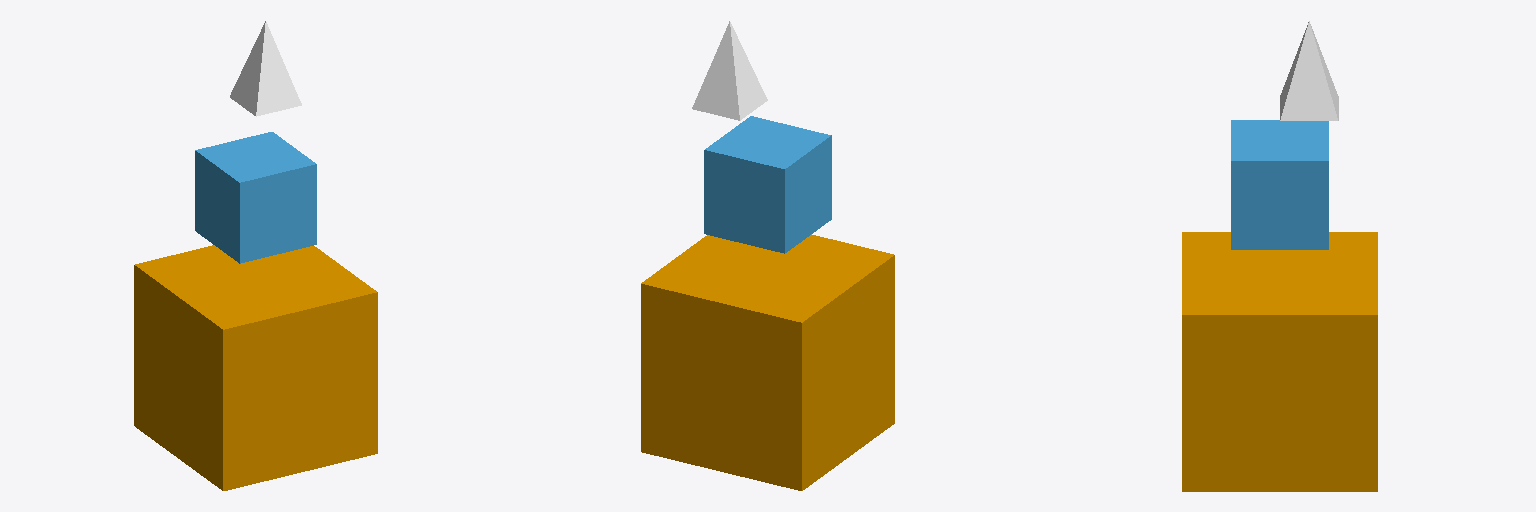
robot.urdf — my_robot:
<?xml version="1.0"?>

<robot name="my_robot">

	<!-- This is the first link -->
	<link name="base_link">

		<visual>

			<geometry>

				<box size="1 1 1"/>

			</geometry>

		</visual>

		<!-- Collision shape of the base -->
		<collision>

			<geometry>

				<box size="1 1 1"/>

			</geometry>

		</collision>

	</link>


	<!-- This is the second link -->
	<link name="top_link">

		<!-- Visual appearance of the top link -->
		<visual>

			<geometry>

				<box size="0.5 0.5 0.5"/>

			</geometry>

		</visual>

		<!-- Collision shape of the top link -->
		<collision>

			<geometry>

				<box size="0.5 0.5 0.5"/>

			</geometry>

		</collision>

	</link>

    <!-- This is the third link , named "end_link" -->
    <link name = "end_link">

        <!-- Visual appearance of the end link -->
        <visual>

            <geometry>

                <mesh filename="package://robot/meshes/simple_pyramid.stl"/>

            </geometry>

			<!-- Color of the end link-->
			<material name = "green">

				<color rgba = "1 1 1 1"/>

			</material>

        </visual>

        <!-- Collision shape of the end link-->
        <collision>
            
            <geometry>

                <box size = "0.3 0.3 0.3"/>

            </geometry>

        </collision>

    </link>


	<!-- Joint connecting base_link and top_link -->
	<joint name="base_joint" type="revolute">

		<!-- Position and orientation of the joint -->
		<origin xyz="0 0 1" rpy="0 0 0"/>

		<!-- Parent link of this joint -->
		<parent link="base_link"/>

		<!-- Child link of this joint -->
		<child link="top_link"/>

		<!-- Rotation axis of the joint -->
		<axis xyz="0 1 0"/>

		<!-- Joint rotation limits: -90° to +90° -->
		<limit lower="-1.57" upper="1.57" effort="10" velocity="1"/>

	</joint>

    <!-- Joint connecting top_link and end_link-->
    <joint name = "end_joint" type = "revolute">

        <!-- Position and orientation of the joint-->
        <origin xyz = "0 0 0.5" rpy = "0 0 0"/>

        <!-- Parent link of this joint-->
        <parent link = "top_link"/>

        <!-- Child link of this joint-->
        <child link = "end_link"/>

        <!-- Rotation axis of the joint-->
        <axis xyz = "0 1 0"/>

        <!-- Joint rotation limits: -90 to +90-->
        <limit lower = "-1.57" upper = "1.57" effort = "10" velocity = "1"/>

    </joint>

</robot>

--- Render facts (derived) ---
3 views of the same robot in one strip: view 1: azimuth 30°, elevation 25°; view 2: azimuth 150°, elevation 25°; view 3: azimuth 270°, elevation 25° (orthographic).
Robot: my_robot — 3 links, 2 joints (2 revolute); root link base_link; default pose: all joints at 0.
Visible links, largest first — view 1: base_link, top_link, end_link; view 2: base_link, top_link, end_link; view 3: base_link, top_link, end_link.
Boxes of the visible links, x1=… form: base_link: x1=134, y1=245, x2=377, y2=490; top_link: x1=195, y1=132, x2=316, y2=263; end_link: x1=230, y1=21, x2=301, y2=116; base_link: x1=641, y1=234, x2=894, y2=490; top_link: x1=704, y1=116, x2=831, y2=253; end_link: x1=692, y1=21, x2=767, y2=120; base_link: x1=1182, y1=232, x2=1377, y2=491; top_link: x1=1231, y1=120, x2=1328, y2=249; end_link: x1=1280, y1=21, x2=1338, y2=120.
Size in the robot's own frame: 1 by 1 by 2.5 metres.
1 mesh visuals loaded from 1 distinct referenced files (1 ASCII STL).
